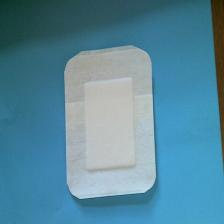Dressing: (63, 44, 159, 201)
